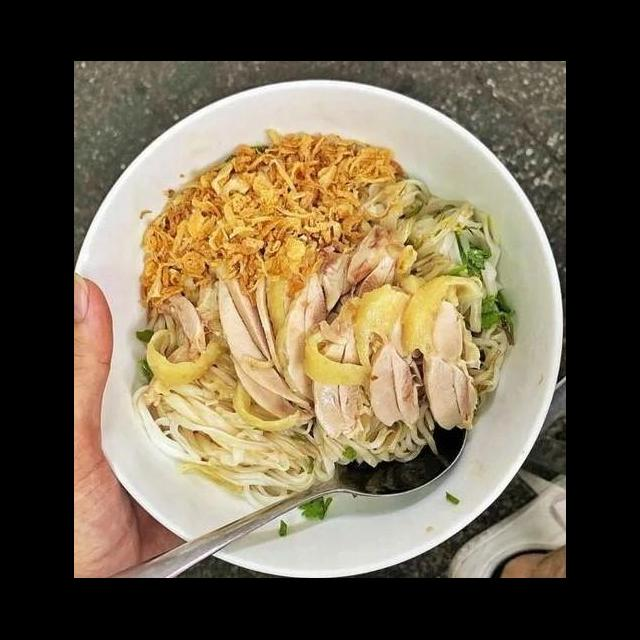banh pho: (123, 370, 351, 516), (354, 174, 505, 300), (347, 402, 443, 472)
pho ga: (86, 120, 563, 542)
thit ga: (258, 220, 422, 408), (211, 270, 318, 434), (311, 282, 413, 442), (397, 272, 486, 436), (348, 280, 424, 430), (140, 282, 230, 390)
